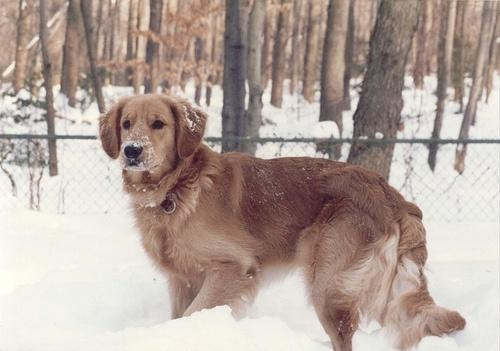dog: (98, 95, 467, 351)
